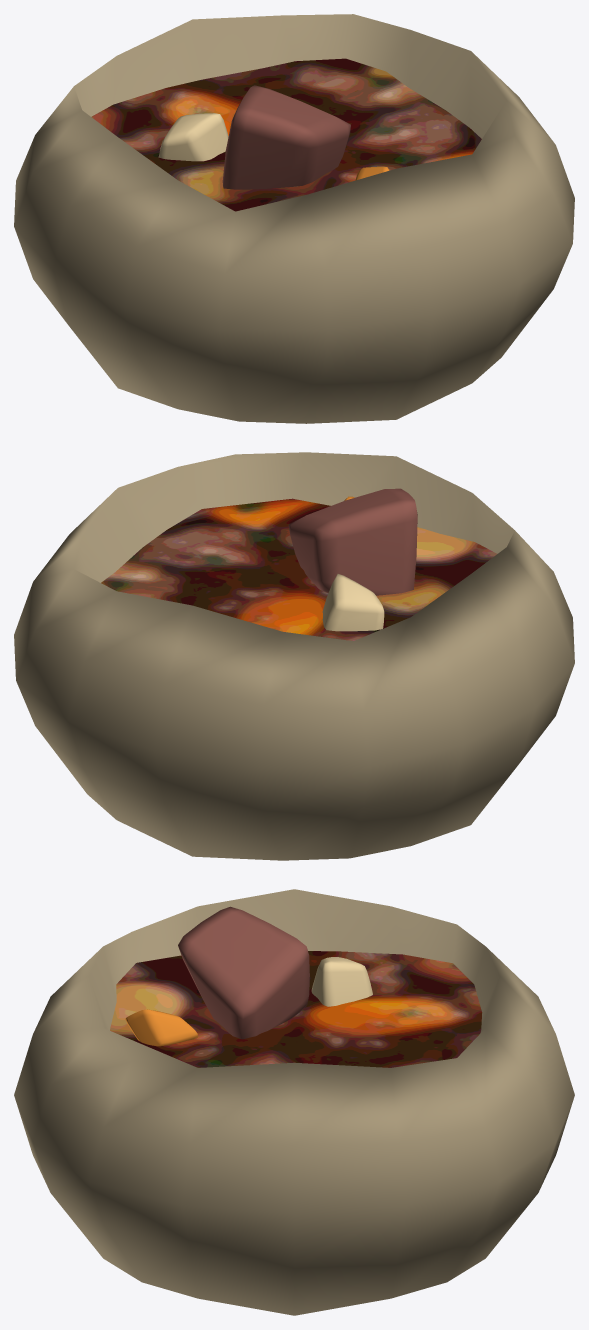
The model's file is Bread_bowl_Stew.fbx.
3 renders of one model, top to bottom at view 1: azimuth 30°, elevation 25°; view 2: azimuth 150°, elevation 25°; view 3: azimuth 270°, elevation 25°, orthographic.
Parts seen in each view (by area): view 1: pDisc4; view 2: pDisc4; view 3: pDisc4.
Part boxes in pixels (x1,y1,x2,y2): pDisc4: (14, 14, 574, 423); pDisc4: (14, 452, 574, 860); pDisc4: (14, 889, 574, 1315).
Bounding box in the file's own units: 2.15 × 1.24 × 2.15.
5 materials, 1 textured.
